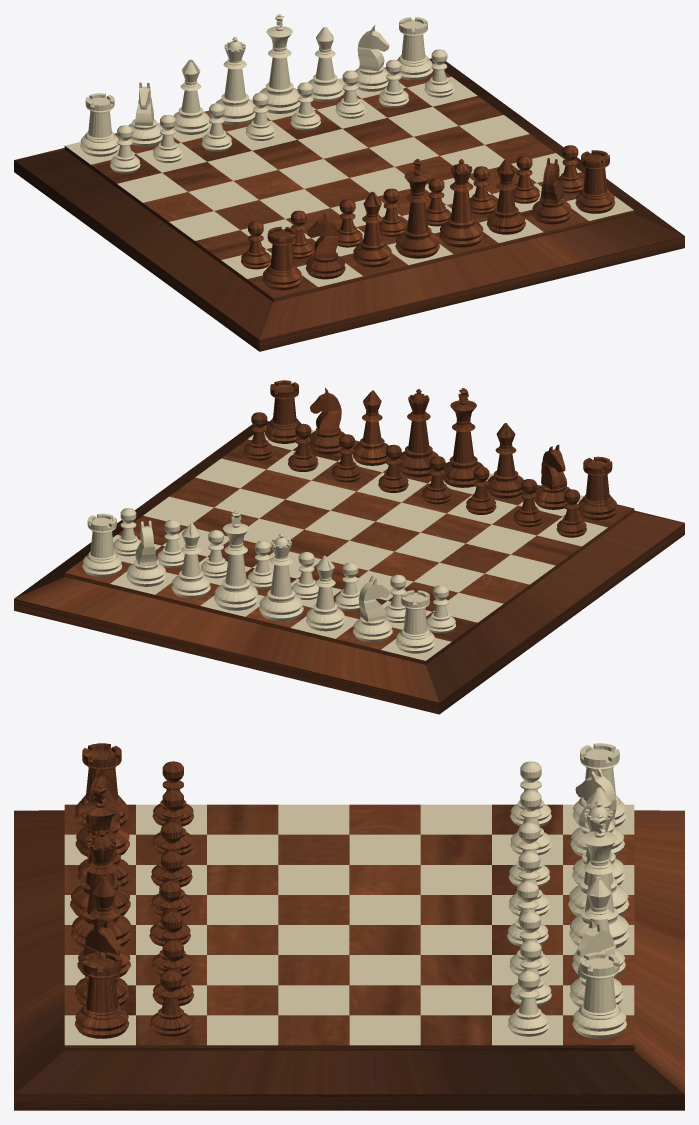
File: Chess unity.fbx
3 views of the same model, one above another, from view 1: azimuth 30°, elevation 25°; view 2: azimuth 150°, elevation 25°; view 3: azimuth 270°, elevation 25° (orthographic). The views are drawn at different scales.
Parts seen in each view (by area): view 1: chess_board, King2, Queen2, King1, Queen1, Rook3, Rook4, Rook2, Horse3, Rook1, Horse2, Bishop3 (+21 smaller); view 2: chess_board, King1, Queen1, King2, Queen2, Rook1, Rook2, Rook4, Horse1, Rook3, Horse4, Bishop2 (+21 smaller); view 3: chess_board, Rook1, Rook3, King1, Queen2, King2, Rook4, Pawn_9, Pawn_8, Rook2, Queen1, Horse1 (+21 smaller).
Boxes of the visible parts, x1,y1,x2,y2 form: chess_board: (14,58,684,351); King2: (395,158,439,258); Queen2: (439,159,483,247); King1: (259,14,300,113); Queen1: (215,36,255,125); Rook3: (575,150,615,213); Rook4: (262,226,302,290); Rook2: (80,93,119,156); Horse3: (305,212,345,279); Rook1: (397,17,433,80); Horse2: (354,25,389,91); Bishop3: (353,191,391,267); chess_board: (14,421,684,714); King1: (214,511,258,610); Queen1: (259,533,303,621); King2: (442,388,483,487); Queen2: (398,389,438,477); Rook1: (82,513,122,577); Rook2: (395,590,435,653); Rook4: (578,456,617,520); Horse1: (353,575,392,642); Rook3: (265,380,301,443); Horse4: (308,388,344,454); Bishop2: (171,523,210,598); chess_board: (14,804,684,1110); Rook1: (572,952,626,1038); Rook3: (74,952,129,1038); King1: (569,814,629,948); Queen2: (71,830,132,947); King2: (70,784,130,916); Rook4: (75,743,128,826); Pawn_9: (150,970,191,1036); Pawn_8: (508,970,549,1036); Rook2: (572,743,626,827); Queen1: (568,800,628,916); Horse1: (570,767,624,856).
Bounding box in the file's own units: 27.5 × 7.63 × 27.5.
